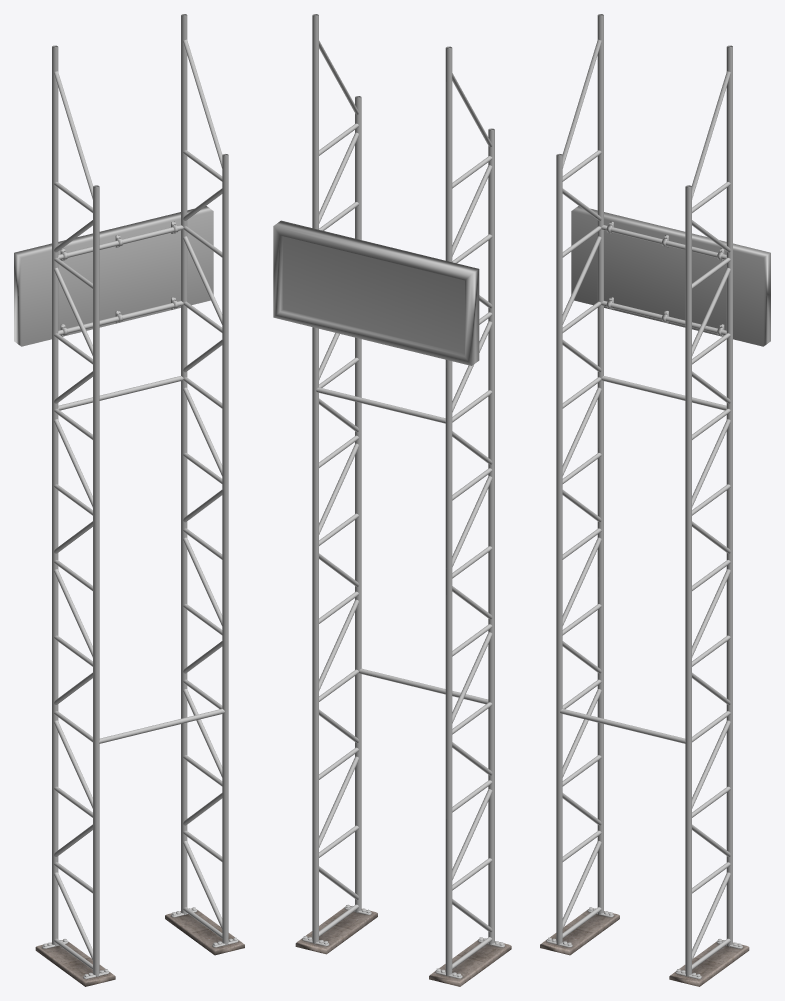
The model's file is leuchttafel_mast_02.fbx.
3 views of the same model, side by side, from view 1: azimuth 30°, elevation 25°; view 2: azimuth 150°, elevation 25°; view 3: azimuth 330°, elevation 25° (orthographic). The views are drawn at different scales.
Parts seen in each view (by area): view 1: Mesh; view 2: Mesh; view 3: Mesh.
Boxes of the visible parts, x1,y1,x2,y2 form: Mesh: (14, 14, 244, 986); Mesh: (273, 14, 511, 986); Mesh: (540, 14, 770, 986).
Size of the model in its own units: 608 by 2729 by 301.
